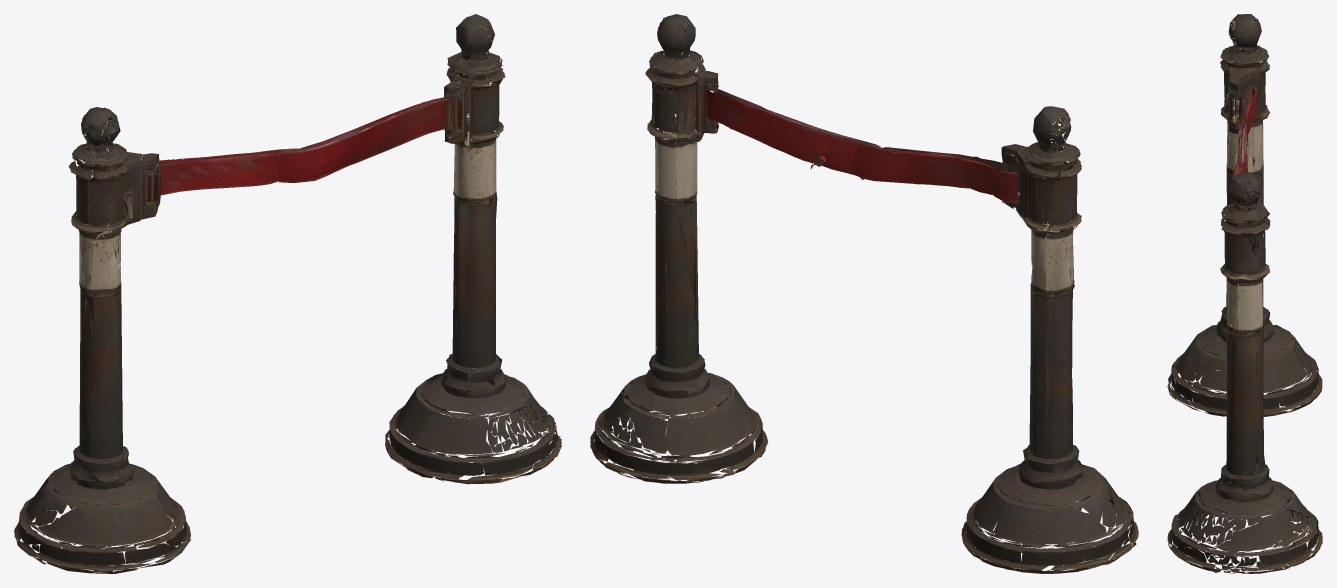
Rendered from ch03_queue_stanchion.glb.
3 views of the same model, side by side, from view 1: azimuth 30°, elevation 25°; view 2: azimuth 150°, elevation 25°; view 3: azimuth 270°, elevation 25° (orthographic). The views are drawn at different scales.
Parts seen in each view (by area): view 1: material; view 2: material; view 3: material.
Boxes of the visible parts, x1,y1,x2,y2 form: material: [14, 14, 561, 573]; material: [590, 14, 1138, 573]; material: [1167, 14, 1322, 573].
Size of the model in its own units: 0.9484 by 0.7435 by 0.282.
1 material, 1 textured.
